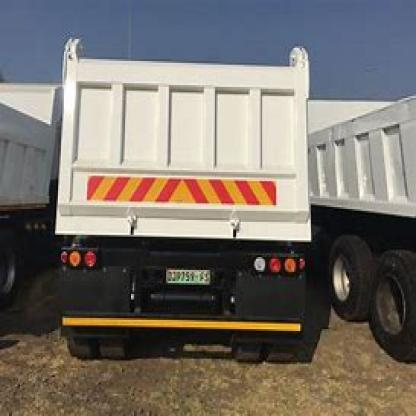dump_truck: (49, 26, 320, 372)
